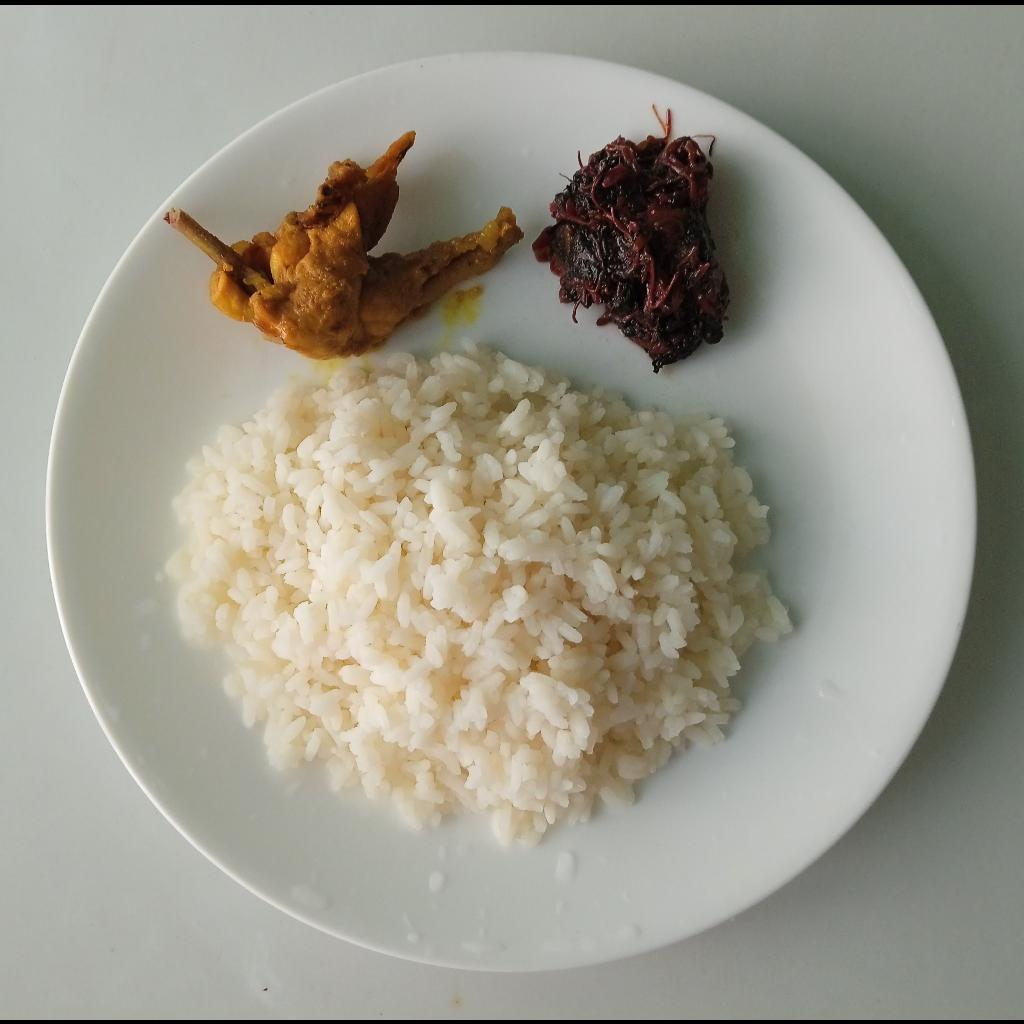chicken: (160, 127, 524, 359)
lal-shak: (530, 137, 732, 372)
rice: (167, 341, 796, 844)
